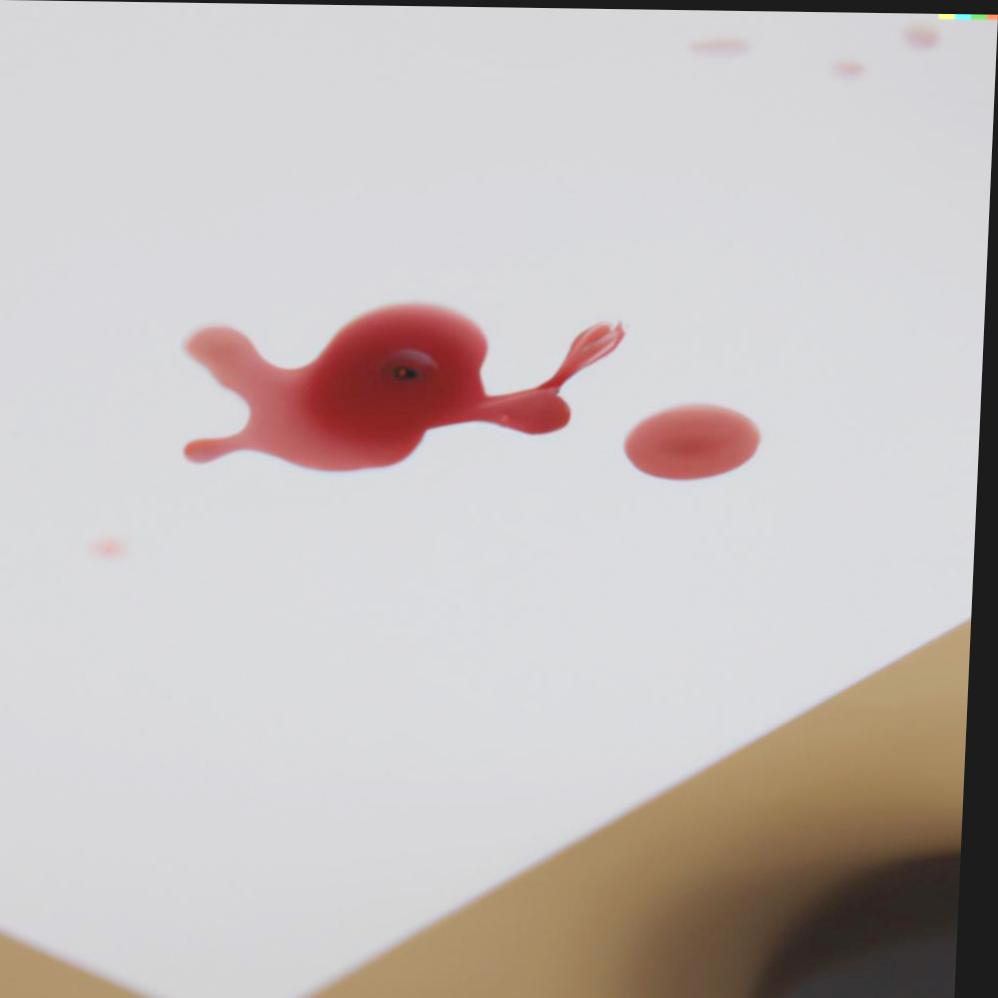Fire: (187, 302, 629, 470), (627, 401, 765, 478)
